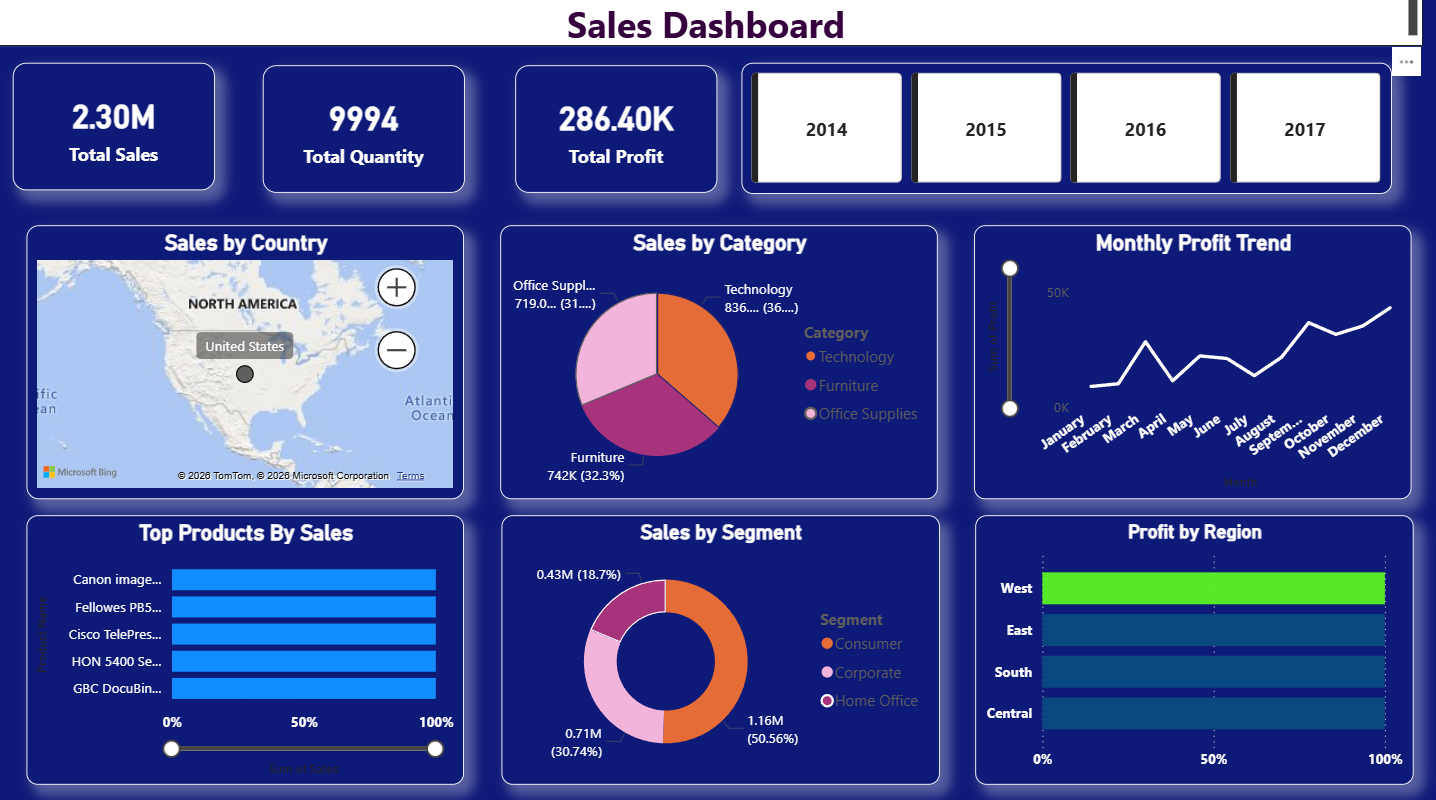

Layout of this report page (visuals, bound fields, positions):
{"tool":"powerbi","page":{"name":"Page 1","canvas":[1280,720],"ordinal":0},"visuals":[{"type":"card","fields":{"Values":["Sum(Sample - Superstore.Sales)"]},"box":[12.8,61.6,180.2,114],"z":0},{"type":"card","fields":{"Values":["CountNonNull(Sample - Superstore.Quantity)"]},"box":[234.9,64,180.2,114],"z":1000},{"type":"card","fields":{"Values":["Sum(Sample - Superstore.Profit)"]},"box":[459.3,64,180.2,114],"z":2000},{"type":"map","title":"Sales by Country","fields":{"Category":["Sample - Superstore.Country"],"Size":["Sum(Sample - Superstore.Sales)"]},"box":[24.7,205.8,389.7,244.3],"z":3000},{"type":"pieChart","title":"Sales by Category","fields":{"Category":["Sample - Superstore.Category"],"Y":["Sum(Sample - Superstore.Sales)"]},"box":[446.7,205.8,389.7,244.3],"z":4000},{"type":"lineChart","title":"Monthly Profit Trend","fields":{"Category":["Sample - Superstore.Order Date.Variation.Date Hierarchy.Month"],"Y":["Sum(Sample - Superstore.Profit)"]},"box":[868.6,205.8,389.7,244.3],"z":5000},{"type":"textbox","box":[0,0,1267.9,46.7],"z":6000},{"type":"hundredPercentStackedBarChart","title":"Top Products By Sales","fields":{"Category":["Sample - Superstore.Product Name"],"Y":["Sum(Sample - Superstore.Sales)"]},"box":[24.7,463.8,389.7,240.1],"z":7000},{"type":"donutChart","title":"Sales by Segment","fields":{"Category":["Sample - Superstore.Segment"],"Y":["Sum(Sample - Superstore.Sales)"]},"box":[446.5,465.1,390.7,239.5],"z":8000},{"type":"advancedSlicerVisual","fields":{"Values":["Sample - Superstore.Order Date.Variation.Date Hierarchy.Year"]},"box":[661.4,61.7,579.1,116.6],"z":9000},{"type":"hundredPercentStackedBarChart","title":"Profit by Region","fields":{"Category":["Sample - Superstore.Region"],"Y":["Sum(Sample - Superstore.Profit)"]},"box":[869,464,390,240],"z":10000}]}

Visuals, with their boxes in screenshot pixels (x1, y1, x2, y2), scaled from the page's 1280x720 canvas onto the 1436x800 screenshot:
card - Sum(Sample - Superstore.Sales): 14/68/217/195
card - CountNonNull(Sample - Superstore.Quantity): 264/71/466/198
card - Sum(Sample - Superstore.Profit): 515/71/717/198
"Sales by Country" map: 28/229/465/500
"Sales by Category" pieChart: 501/229/938/500
"Monthly Profit Trend" lineChart: 974/229/1412/500
textbox: 0/0/1422/52
"Top Products By Sales" hundredPercentStackedBarChart: 28/515/465/782
"Sales by Segment" donutChart: 501/517/939/783
advancedSlicerVisual - Sample - Superstore.Order Date.Variation.Date Hierarchy.Year: 742/69/1392/198
"Profit by Region" hundredPercentStackedBarChart: 975/516/1412/782
